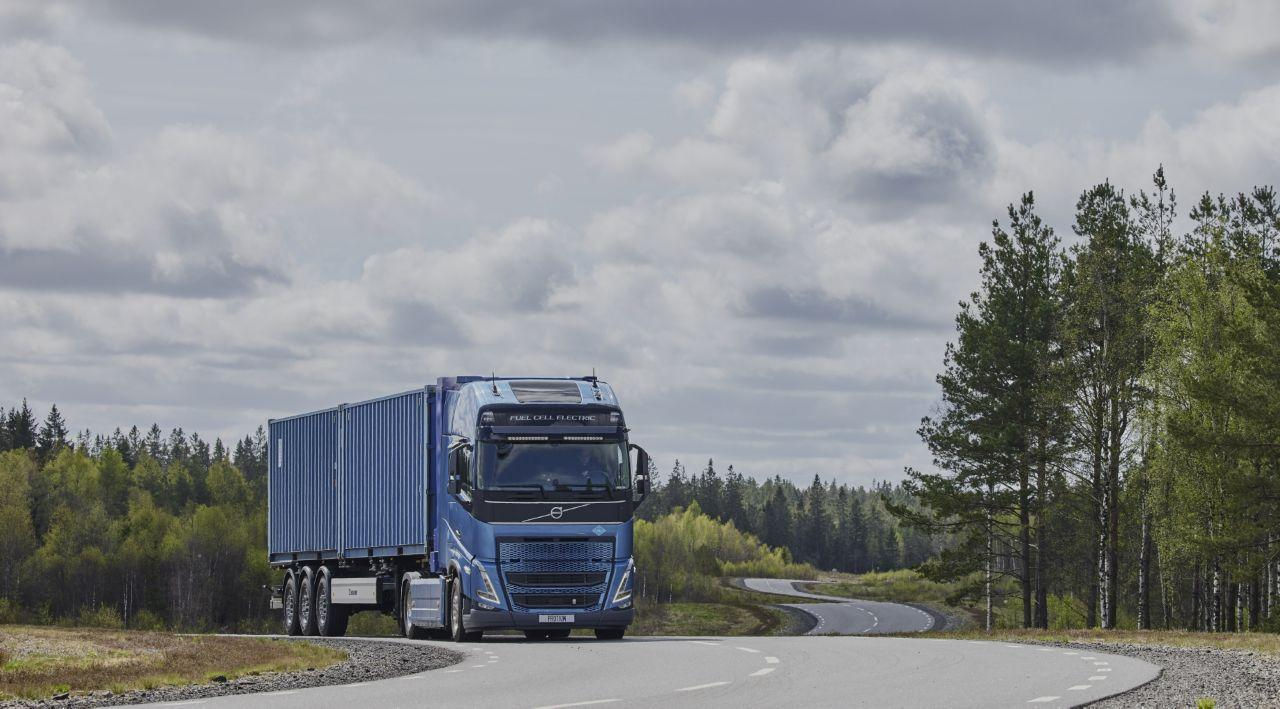truck: (264, 373, 648, 641)
